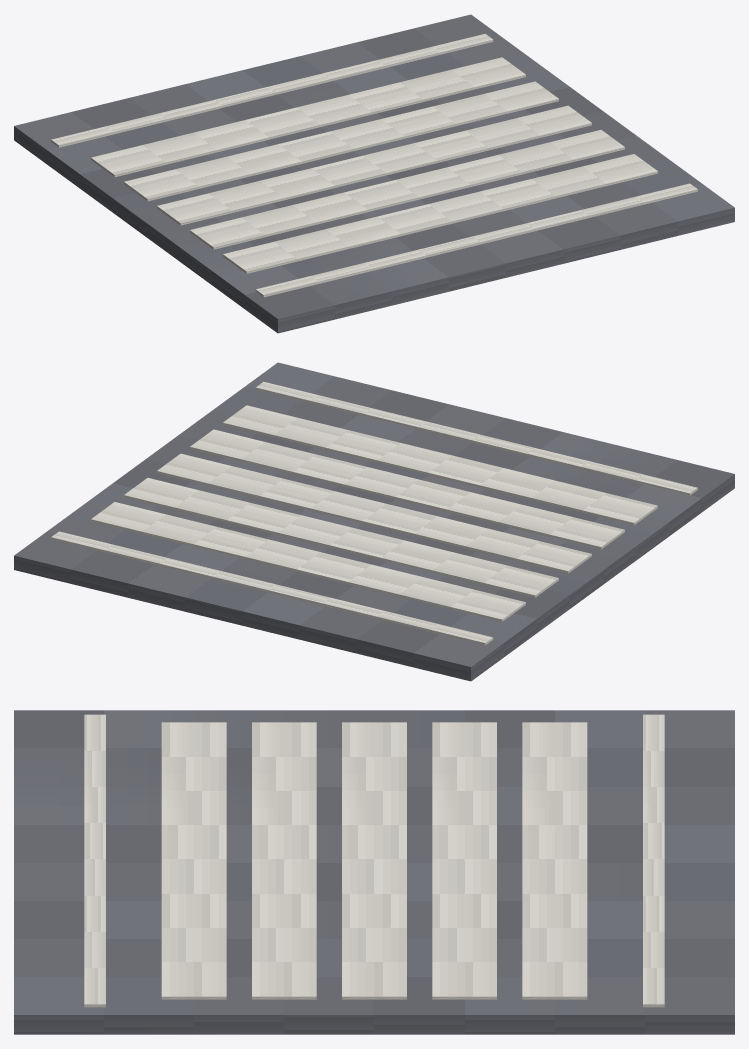
File: pixel-modern-city-street-road-zebra-crossing-a262fcf3__28991.glb
3 views of the same model, one above another, from view 1: azimuth 30°, elevation 25°; view 2: azimuth 150°, elevation 25°; view 3: azimuth 270°, elevation 25° (orthographic). The views are drawn at different scales.
Visible parts, largest first — view 1: road-zebra-crossing; view 2: road-zebra-crossing; view 3: road-zebra-crossing.
Boxes of the visible parts, left/top/right/bottom form: road-zebra-crossing: left=14, top=14, right=734, bottom=333; road-zebra-crossing: left=14, top=362, right=734, bottom=681; road-zebra-crossing: left=14, top=710, right=734, bottom=1034.
Bounding box in the file's own units: 4 × 0.14 × 4.
Materials: 2 (2 with a texture image).
